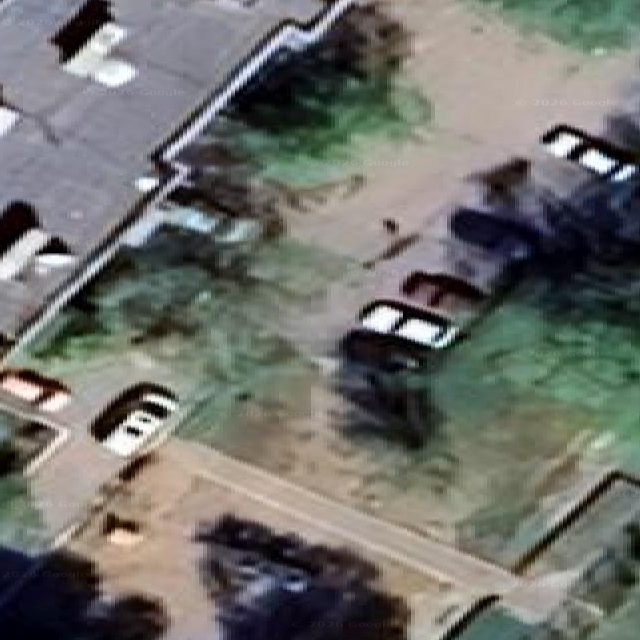car: (342, 207, 535, 369), (343, 271, 488, 369), (540, 124, 639, 261), (343, 300, 459, 369), (91, 384, 176, 455), (448, 207, 539, 270), (540, 123, 639, 180), (357, 300, 459, 347), (400, 272, 487, 326), (103, 392, 176, 455), (0, 368, 68, 412), (404, 263, 412, 267)
